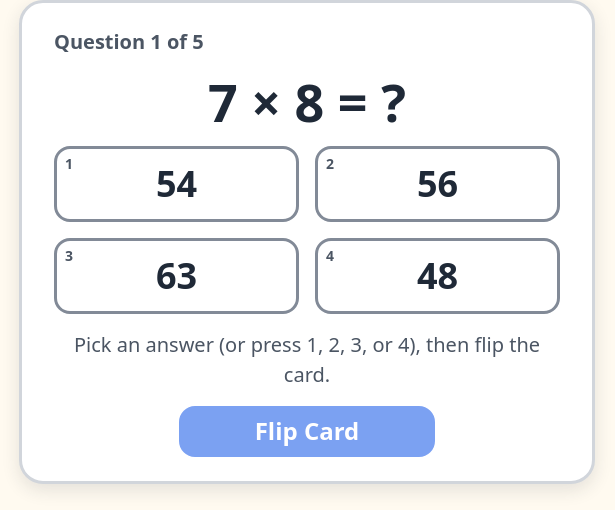
Test: not relying on color alone › labels the back of the card in words
The image size is (615, 510).
Click the button named "Answer 56" at coordinates (438, 184), box [315,146,560,222]
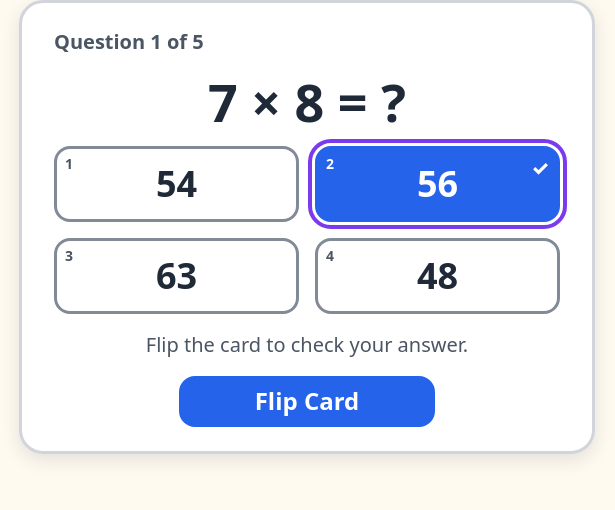
Click the button "Flip Card" at coordinates (307, 402), box [179,376,435,427]
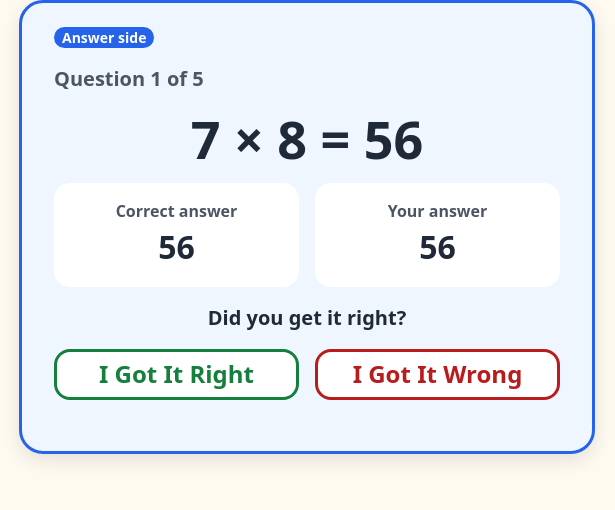
Result: the text "Answer side" is shown at [54,27,154,48]
